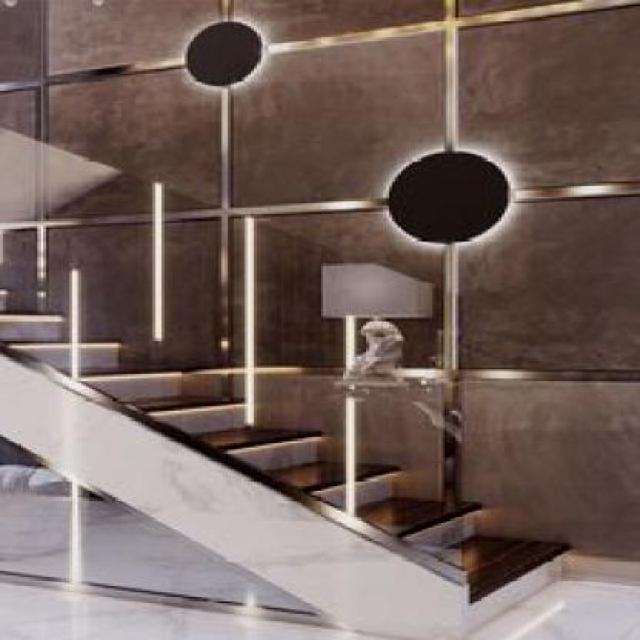stair: (0, 227, 600, 638)
